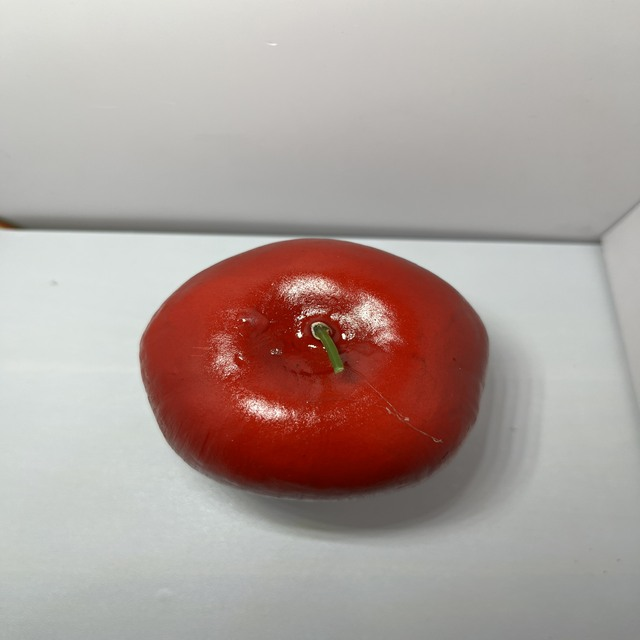Tao: (140, 226, 499, 507)
